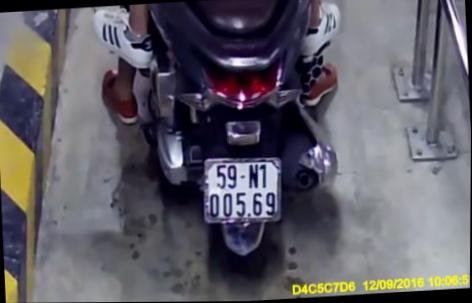LP: (200, 153, 286, 226)
